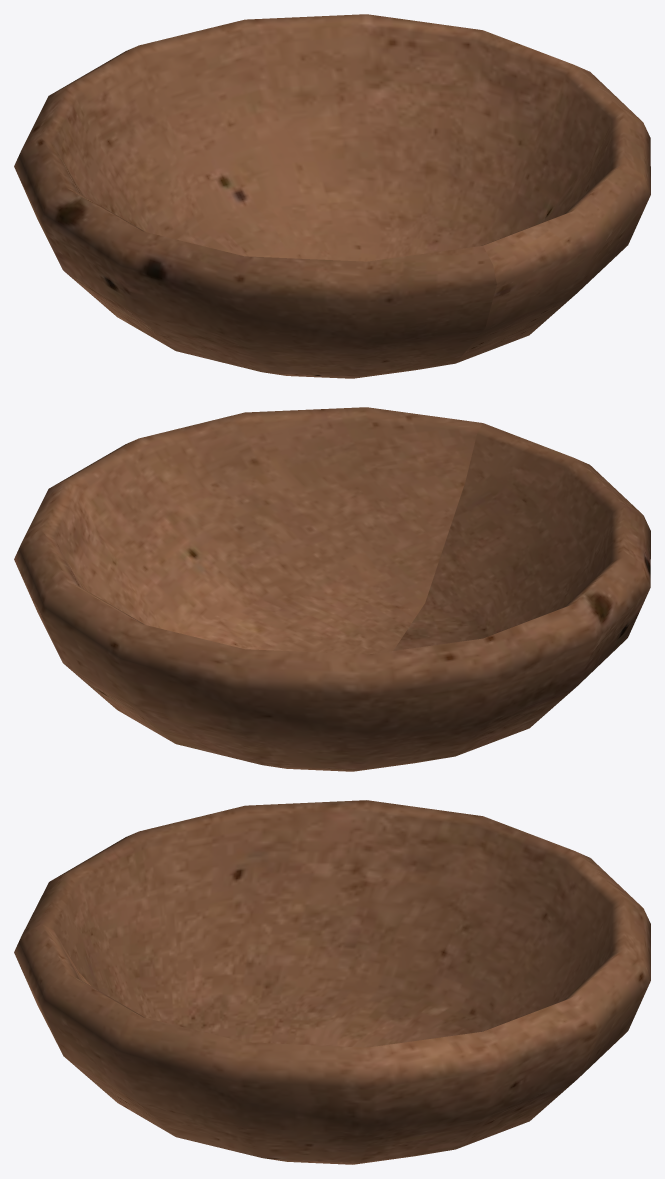
Rendered from Bowl_03.glb.
3 renders of one model, top to bottom at view 1: azimuth 30°, elevation 25°; view 2: azimuth 150°, elevation 25°; view 3: azimuth 270°, elevation 25°, orthographic.
Parts seen in each view (by area): view 1: SM_Bowl_03; view 2: SM_Bowl_03; view 3: SM_Bowl_03.
Boxes of the visible parts, x1=… form: SM_Bowl_03: x1=14, y1=14, x2=650, y2=378; SM_Bowl_03: x1=14, y1=407, x2=650, y2=771; SM_Bowl_03: x1=14, y1=800, x2=650, y2=1164.
Bounding box in the file's own units: 0.2114 × 0.0714 × 0.2102.
1 material, 1 textured.
